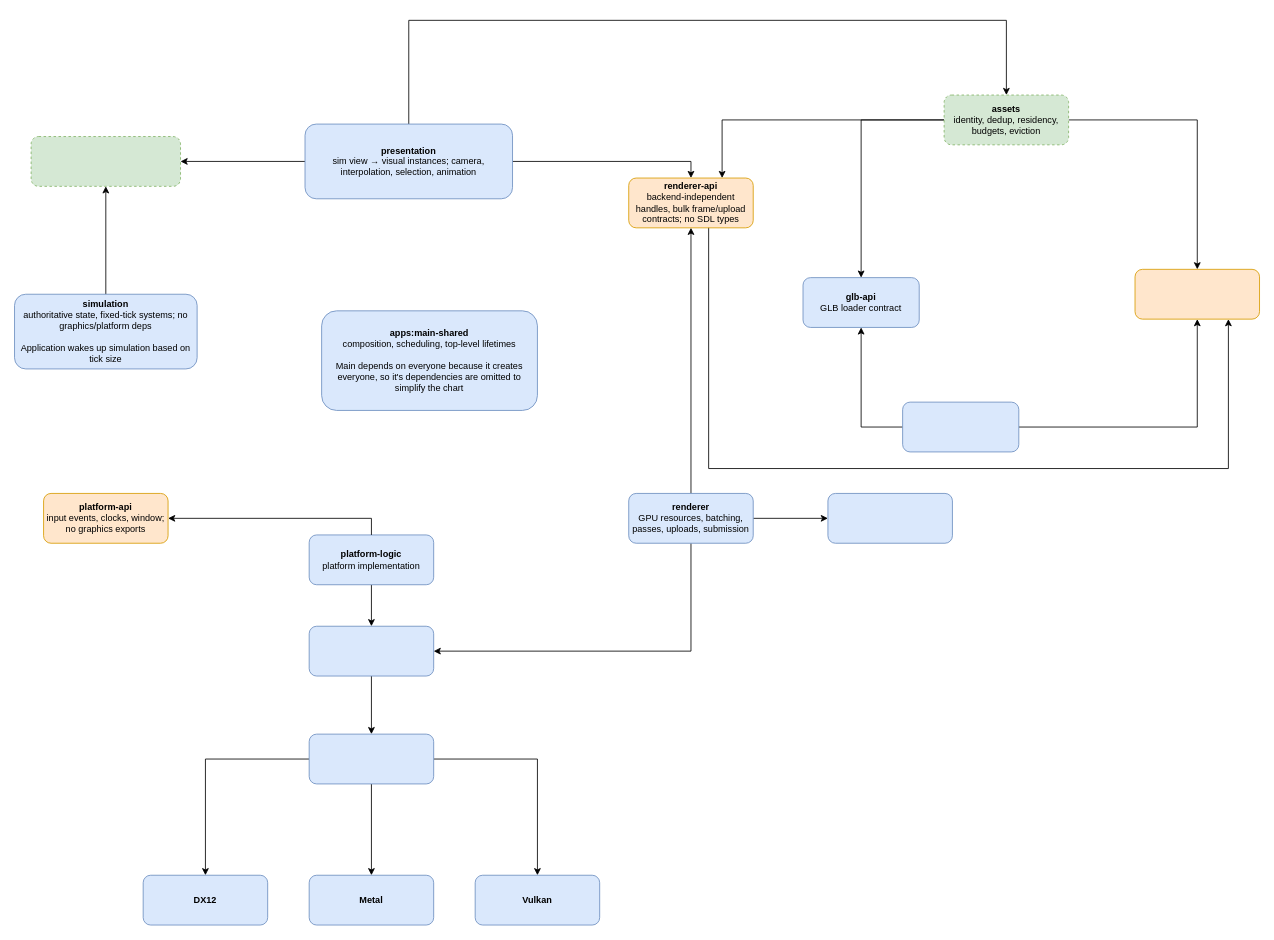
Image size: 1274x940. Some labels were removed from this diagram. The centre of each missing label's shape, as x and y in pixels:
asset-model owned prepared CPU data (was gpu-assets): the point at 1197,294
glb-loader GLB → PreparedModel: the point at 960,426
sdl3 SDL3 wrapper: the point at 371,650
sdl3-ffi-generated generated FFM bindings: the point at 371,758
shaders:* slang-binary, shaders-primitive: the point at 889,518
simulation-api commands, published simulation views: the point at 105,161
